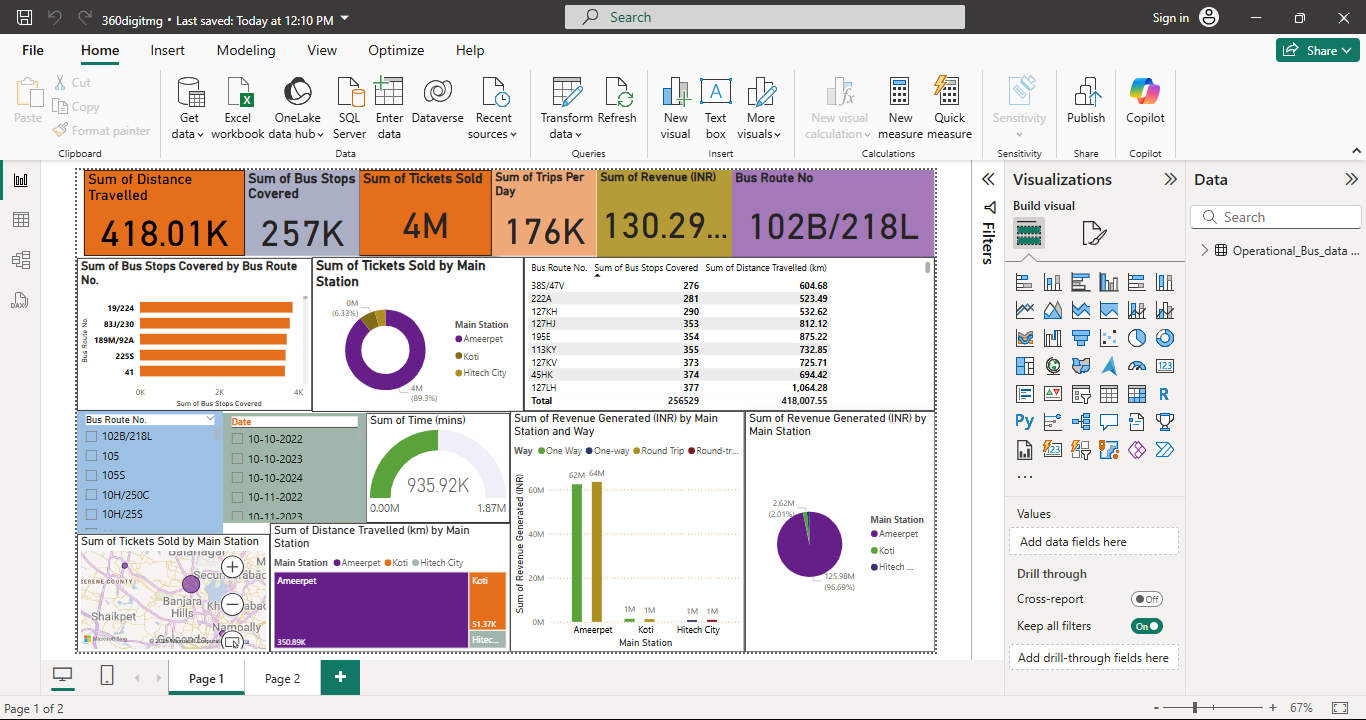

What the dashboard file says about the page in this screenshot:
{"tool":"powerbi","page":{"name":"Page 1","canvas":[1280,720],"ordinal":0},"visuals":[{"type":"card","title":"Sum of Distance Travelled","fields":{"Values":["Operational_Bus_data - Operational_Bus_data.Distance Travelled (km)"]},"box":[10.1,0,240.2,127.7],"z":0},{"type":"card","title":"Sum of Tickets Sold","fields":{"Values":["Operational_Bus_data - Operational_Bus_data.Tickets Sold"]},"box":[421.6,0,198.2,127.7],"z":1000},{"type":"card","title":"Sum of Bus Stops Covered","fields":{"Values":["Operational_Bus_data - Operational_Bus_data.Bus Stops Covered"]},"box":[250.3,0,171.3,127.7],"z":2000},{"type":"card","title":"Sum of Trips Per Day","fields":{"Values":["Operational_Bus_data - Operational_Bus_data.Trips per Day"]},"box":[619.8,0,156.2,127.7],"z":3000},{"type":"card","title":"Sum of Revenue (INR)","fields":{"Values":["Operational_Bus_data - Operational_Bus_data.Revenue Generated (INR)"]},"box":[776.1,0,201.6,131],"z":4000},{"type":"card","title":"Bus Route No","fields":{"Values":["Operational_Bus_data - Operational_Bus_data.Bus Route No."]},"box":[977.6,0,302.4,131],"z":5000},{"type":"clusteredBarChart","fields":{"Category":["Operational_Bus_data - Operational_Bus_data.Bus Route No."],"Y":["Operational_Bus_data - Operational_Bus_data.Bus Stops Covered"]},"box":[0,131.7,351.2,228.3],"z":6000},{"type":"donutChart","fields":{"Category":["Operational_Bus_data - Operational_Bus_data.Main Station"],"Y":["Operational_Bus_data - Operational_Bus_data.Tickets Sold"]},"box":[351.2,130.2,316.1,231.2],"z":7000},{"type":"pivotTable","fields":{"Rows":["Operational_Bus_data - Operational_Bus_data.Bus Route No."],"Values":["Operational_Bus_data - Operational_Bus_data.Bus Stops Covered","Operational_Bus_data - Operational_Bus_data.Distance Travelled (km)"]},"box":[667.3,130.2,613.2,229.8],"z":8000},{"type":"slicer","fields":{"Values":["Operational_Bus_data - Operational_Bus_data.Bus Route No."]},"box":[0,360,218,182.9],"z":9000},{"type":"pieChart","fields":{"Category":["Operational_Bus_data - Operational_Bus_data.Main Station"],"Y":["Operational_Bus_data - Operational_Bus_data.Revenue Generated (INR)"]},"box":[996.6,360,283.9,360],"z":10000},{"type":"gauge","fields":{"Y":["Operational_Bus_data - Operational_Bus_data.Time (mins)"]},"box":[431.7,362.9,215.1,163.9],"z":11000},{"type":"clusteredColumnChart","fields":{"Category":["Operational_Bus_data - Operational_Bus_data.Main Station"],"Series":["Operational_Bus_data - Operational_Bus_data.Way"],"Y":["Operational_Bus_data - Operational_Bus_data.Revenue Generated (INR)"]},"box":[646.8,360,349.8,360],"z":12000},{"type":"slicer","fields":{"Values":["Operational_Bus_data - Operational_Bus_data.Date"]},"box":[218,362.9,213.7,163.9],"z":13000},{"type":"map","fields":{"Category":["Operational_Bus_data - Operational_Bus_data.Main Station"],"Size":["Operational_Bus_data - Operational_Bus_data.Tickets Sold"]},"box":[0,542.9,288.3,177.1],"z":14000},{"type":"treemap","fields":{"Group":["Operational_Bus_data - Operational_Bus_data.Main Station"],"Values":["Operational_Bus_data - Operational_Bus_data.Distance Travelled (km)"]},"box":[288.3,526.8,358.5,193.2],"z":15000}]}

Visuals, with their boxes on the page's 1280x720 design canvas (x1, y1, x2, y2). These are canvas units, not pixel positions in the 1366x720 screenshot, which may show the page scaled, cropped or inside an application window:
"Sum of Distance Travelled" card: [left=10, top=0, right=250, bottom=128]
"Sum of Tickets Sold" card: [left=422, top=0, right=620, bottom=128]
"Sum of Bus Stops Covered" card: [left=250, top=0, right=422, bottom=128]
"Sum of Trips Per Day" card: [left=620, top=0, right=776, bottom=128]
"Sum of Revenue (INR)" card: [left=776, top=0, right=978, bottom=131]
"Bus Route No" card: [left=978, top=0, right=1280, bottom=131]
clusteredBarChart - Operational_Bus_data - Operational_Bus_data.Bus Route No. x Operational_Bus_data - Operational_Bus_data.Bus Stops Covered: [left=0, top=132, right=351, bottom=360]
donutChart - Operational_Bus_data - Operational_Bus_data.Main Station x Operational_Bus_data - Operational_Bus_data.Tickets Sold: [left=351, top=130, right=667, bottom=361]
pivotTable - Operational_Bus_data - Operational_Bus_data.Bus Route No. x Operational_Bus_data - Operational_Bus_data.Bus Stops Covered: [left=667, top=130, right=1280, bottom=360]
slicer - Operational_Bus_data - Operational_Bus_data.Bus Route No.: [left=0, top=360, right=218, bottom=543]
pieChart - Operational_Bus_data - Operational_Bus_data.Main Station x Operational_Bus_data - Operational_Bus_data.Revenue Generated (INR): [left=997, top=360, right=1280, bottom=720]
gauge - Operational_Bus_data - Operational_Bus_data.Time (mins): [left=432, top=363, right=647, bottom=527]
clusteredColumnChart - Operational_Bus_data - Operational_Bus_data.Main Station x Operational_Bus_data - Operational_Bus_data.Way: [left=647, top=360, right=997, bottom=720]
slicer - Operational_Bus_data - Operational_Bus_data.Date: [left=218, top=363, right=432, bottom=527]
map - Operational_Bus_data - Operational_Bus_data.Main Station x Operational_Bus_data - Operational_Bus_data.Tickets Sold: [left=0, top=543, right=288, bottom=720]
treemap - Operational_Bus_data - Operational_Bus_data.Main Station x Operational_Bus_data - Operational_Bus_data.Distance Travelled (km): [left=288, top=527, right=647, bottom=720]
